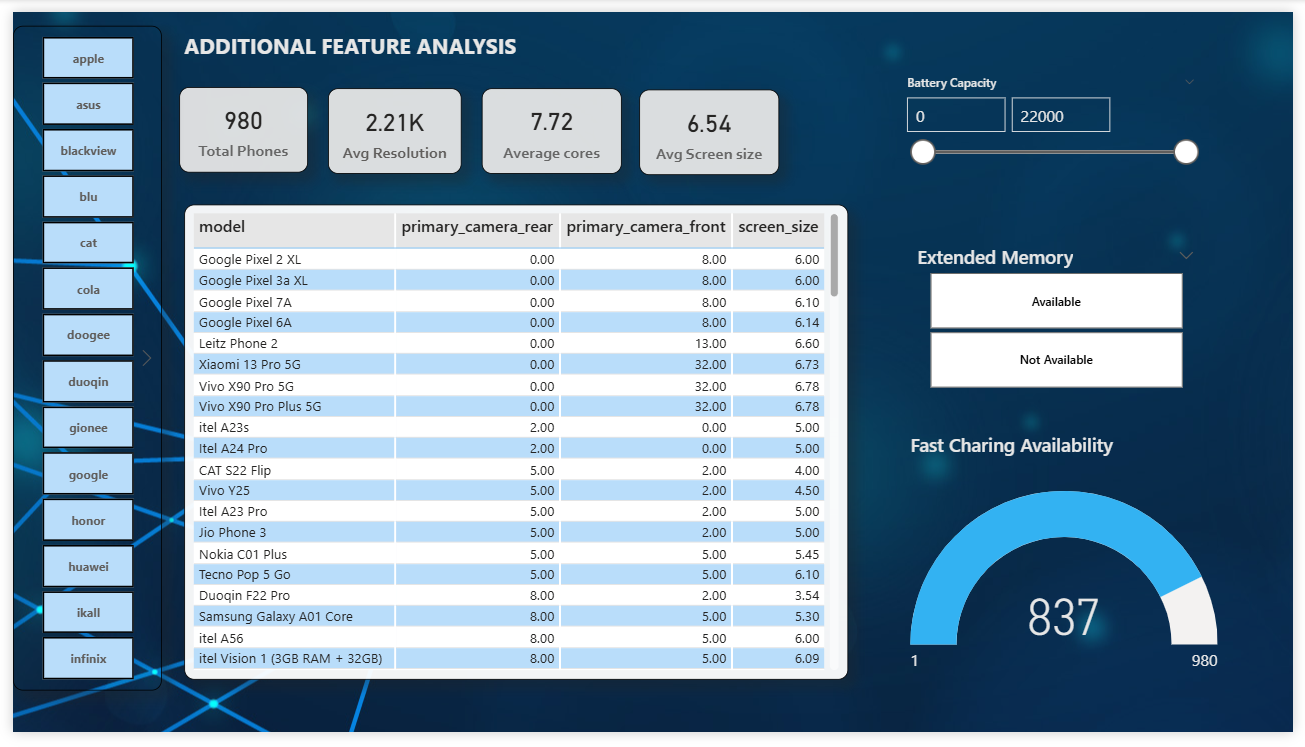

Layout of this report page (visuals, bound fields, positions):
{"tool":"powerbi","page":{"name":"Other Feature View","canvas":[1280,720],"ordinal":2},"visuals":[{"type":"card","fields":{"Values":["Avg(Real World Smartphone's Dataset.resolution_height)"]},"box":[315.4,76,133.7,85.6],"z":0},{"type":"card","fields":{"Values":["Avg(Real World Smartphone's Dataset.num_cores)"]},"box":[468.3,76,140.4,85.6],"z":1000},{"type":"card","fields":{"Values":["Real World Smartphone's Dataset export 2025-07-25 13-08-29.Total Phones"]},"box":[166.3,75,128.8,85.6],"z":2000},{"type":"slicer","title":"Brand","fields":{"Values":["Real World Smartphone's Dataset.brand_name"]},"box":[0,13.8,148.8,665],"z":3000},{"type":"textbox","box":[166.6,13.2,371.5,43.1],"z":4000},{"type":"card","fields":{"Values":["Avg(Real World Smartphone's Dataset.screen_size)"]},"box":[626,76.9,140.4,85.6],"z":5000},{"type":"tableEx","fields":{"Values":["Real World Smartphone's Dataset.model","Real World Smartphone's Dataset.primary_camera_rear","Real World Smartphone's Dataset.primary_camera_front","Real World Smartphone's Dataset.screen_size"]},"box":[171.2,192.5,663.8,475],"z":9000},{"type":"gauge","title":"Fast Charing Availability","fields":{"Y":["Sum(Real World Smartphone's Dataset.fast_charging_available)"],"MinValue":["Real World Smartphone's Dataset.Min count"],"MaxValue":["Real World Smartphone's Dataset.Max count"]},"box":[892,420,317.3,278.7],"z":10000},{"type":"slicer","fields":{"Values":["Real World Smartphone's Dataset.battery_capacity"]},"box":[880.9,57.5,312.8,134.2],"z":11000},{"type":"slicer","fields":{"Values":["Real World Smartphone's Dataset.Extended memory"]},"box":[891.7,227.7,302,154.6],"z":12000}]}

Visuals, with their boxes in screenshot pixels (x1, y1, x2, y2), scaled from the page's 1280x720 canvas onto the 1305x747 screenshot:
card - Avg(Real World Smartphone's Dataset.resolution_height): bbox(322, 79, 458, 168)
card - Avg(Real World Smartphone's Dataset.num_cores): bbox(477, 79, 621, 168)
card - Real World Smartphone's Dataset export 2025-07-25 13-08-29.Total Phones: bbox(170, 78, 301, 167)
"Brand" slicer: bbox(0, 14, 152, 704)
textbox: bbox(170, 14, 549, 58)
card - Avg(Real World Smartphone's Dataset.screen_size): bbox(638, 80, 781, 169)
tableEx - Real World Smartphone's Dataset.model x Real World Smartphone's Dataset.primary_camera_rear: bbox(175, 200, 851, 693)
"Fast Charing Availability" gauge: bbox(909, 436, 1233, 725)
slicer - Real World Smartphone's Dataset.battery_capacity: bbox(898, 60, 1217, 199)
slicer - Real World Smartphone's Dataset.Extended memory: bbox(909, 236, 1217, 397)
